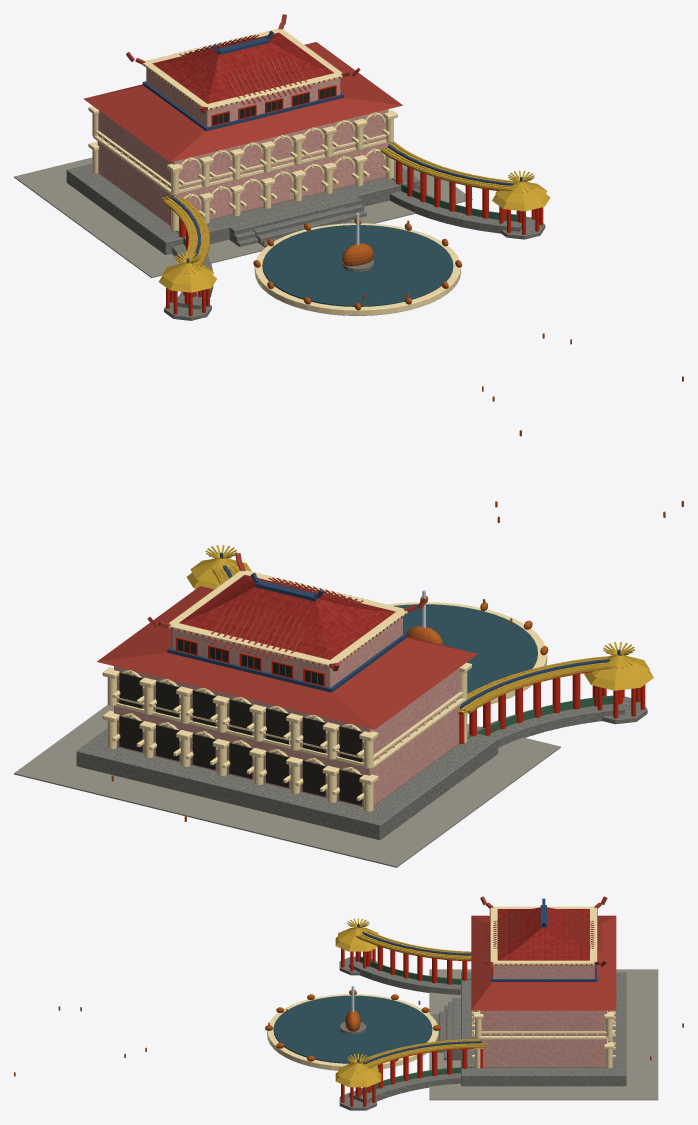
The model's file is xieqiqu.glb.
3 views of the same model, one above another, from view 1: azimuth 30°, elevation 25°; view 2: azimuth 150°, elevation 25°; view 3: azimuth 270°, elevation 25° (orthographic). The views are drawn at different scales.
Parts seen in each view (by area): view 1: xieqiqu_body_lower, xieqiqu_poolwater, xieqiqu_eave_low, xieqiqu_apron, xieqiqu_plinth, xieqiqu_roof, xieqiqu_poolrim, xieqiqu_body_top, xieqiqu_cornice_top, xieqiqu_bal2_balustrade, xieqiqu_arc_tiles, xieqiqu_tiles (+8 smaller); view 2: xieqiqu_apron, xieqiqu_eave_low, xieqiqu_plinth, xieqiqu_body_lower, xieqiqu_roof, xieqiqu_poolwater, xieqiqu_body_top, xieqiqu_cornice_top, xieqiqu_bal2_balustrade, xieqiqu_tiles, xieqiqu_arc_tiles, xieqiqu_poolrim (+18 smaller); view 3: xieqiqu_apron, xieqiqu_poolwater, xieqiqu_eave_low, xieqiqu_body_lower, xieqiqu_plinth, xieqiqu_roof, xieqiqu_cornice_top, xieqiqu_tiles, xieqiqu_poolrim, xieqiqu_body_top, xieqiqu_arc_tiles, xieqiqu_bal2_balustrade (+6 smaller).
Part boxes in pixels (x1,y1,x2,y2): xieqiqu_body_lower: (97, 109, 388, 227); xieqiqu_poolwater: (262, 225, 453, 306); xieqiqu_eave_low: (83, 42, 402, 162); xieqiqu_apron: (14, 141, 472, 278); xieqiqu_plinth: (66, 161, 419, 254); xieqiqu_roof: (152, 32, 333, 103); xieqiqu_poolrim: (254, 223, 460, 315); xieqiqu_body_top: (146, 68, 340, 127); xieqiqu_cornice_top: (142, 28, 342, 110); xieqiqu_bal2_balustrade: (95, 130, 386, 192); xieqiqu_arc_tiles: (162, 142, 513, 264); xieqiqu_tiles: (175, 35, 311, 104); xieqiqu_apron: (14, 704, 560, 867); xieqiqu_eave_low: (97, 586, 477, 729); xieqiqu_plinth: (76, 728, 498, 840); xieqiqu_body_lower: (114, 666, 460, 807); xieqiqu_roof: (179, 575, 395, 659); xieqiqu_poolwater: (394, 604, 537, 693); xieqiqu_body_top: (171, 617, 402, 687); xieqiqu_cornice_top: (168, 570, 407, 667); xieqiqu_bal2_balustrade: (116, 691, 463, 765); xieqiqu_tiles: (205, 577, 363, 660); xieqiqu_arc_tiles: (215, 566, 610, 713); xieqiqu_poolrim: (388, 602, 547, 706); xieqiqu_apron: (429, 969, 658, 1100); xieqiqu_poolwater: (273, 995, 432, 1063); xieqiqu_eave_low: (471, 915, 616, 1010); xieqiqu_body_lower: (480, 1010, 607, 1067); xieqiqu_plinth: (461, 972, 626, 1086); xieqiqu_roof: (497, 907, 589, 960); xieqiqu_cornice_top: (490, 906, 597, 965); xieqiqu_tiles: (485, 911, 602, 951); xieqiqu_poolrim: (267, 994, 438, 1070); xieqiqu_body_top: (493, 965, 594, 978); xieqiqu_arc_tiles: (358, 931, 488, 1066); xieqiqu_bal2_balustrade: (480, 1031, 606, 1036).
Bounding box in the file's own units: 46.03 × 17.39 × 84.25.
15 materials, 7 textured.
